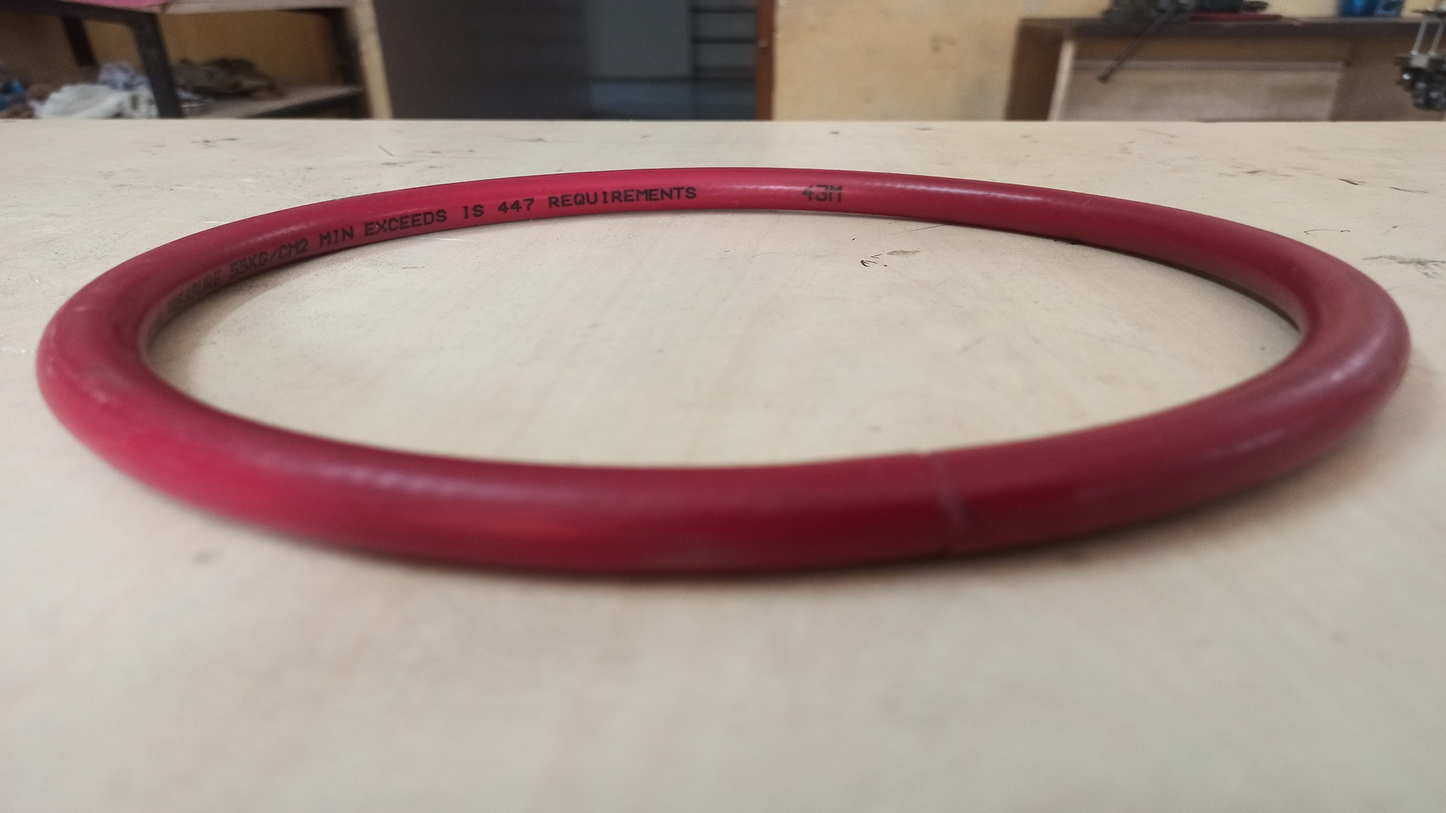Red ring: (32, 165, 1407, 565)
